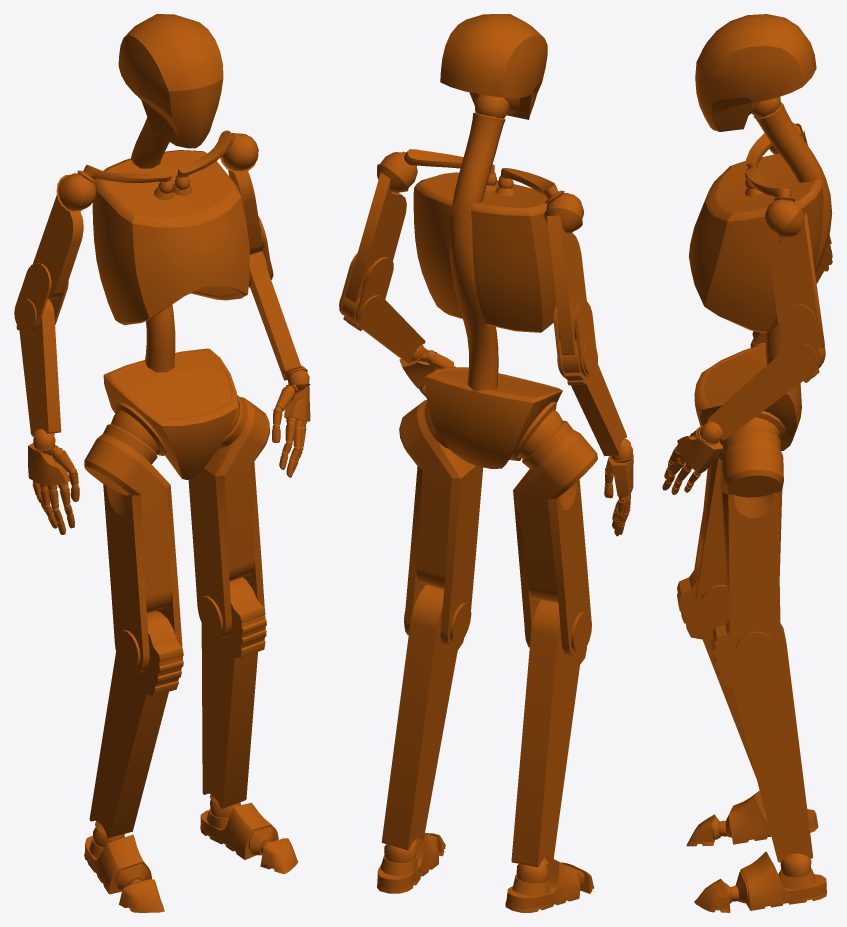
File: RobotAnimacja_000033.obj
The picture shows the model from 3 angles, left to right: view 1: azimuth 30°, elevation 25°; view 2: azimuth 150°, elevation 25°; view 3: azimuth 270°, elevation 25°; orthographic projection. The views are drawn at different scales.
Visible parts, largest first — view 1: free3dmodel.001; view 2: free3dmodel.001; view 3: free3dmodel.001.
Boxes of the visible parts, x1,y1,x2,y2 form: free3dmodel.001: (14,14,310,912); free3dmodel.001: (339,14,633,912); free3dmodel.001: (662,14,832,912).
Bounding box in the file's own units: 1.92 × 6.05 × 1.1.
